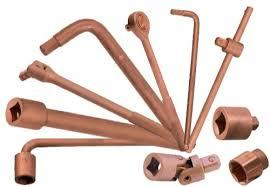wrench: (39, 17, 181, 141), (168, 7, 200, 151)
